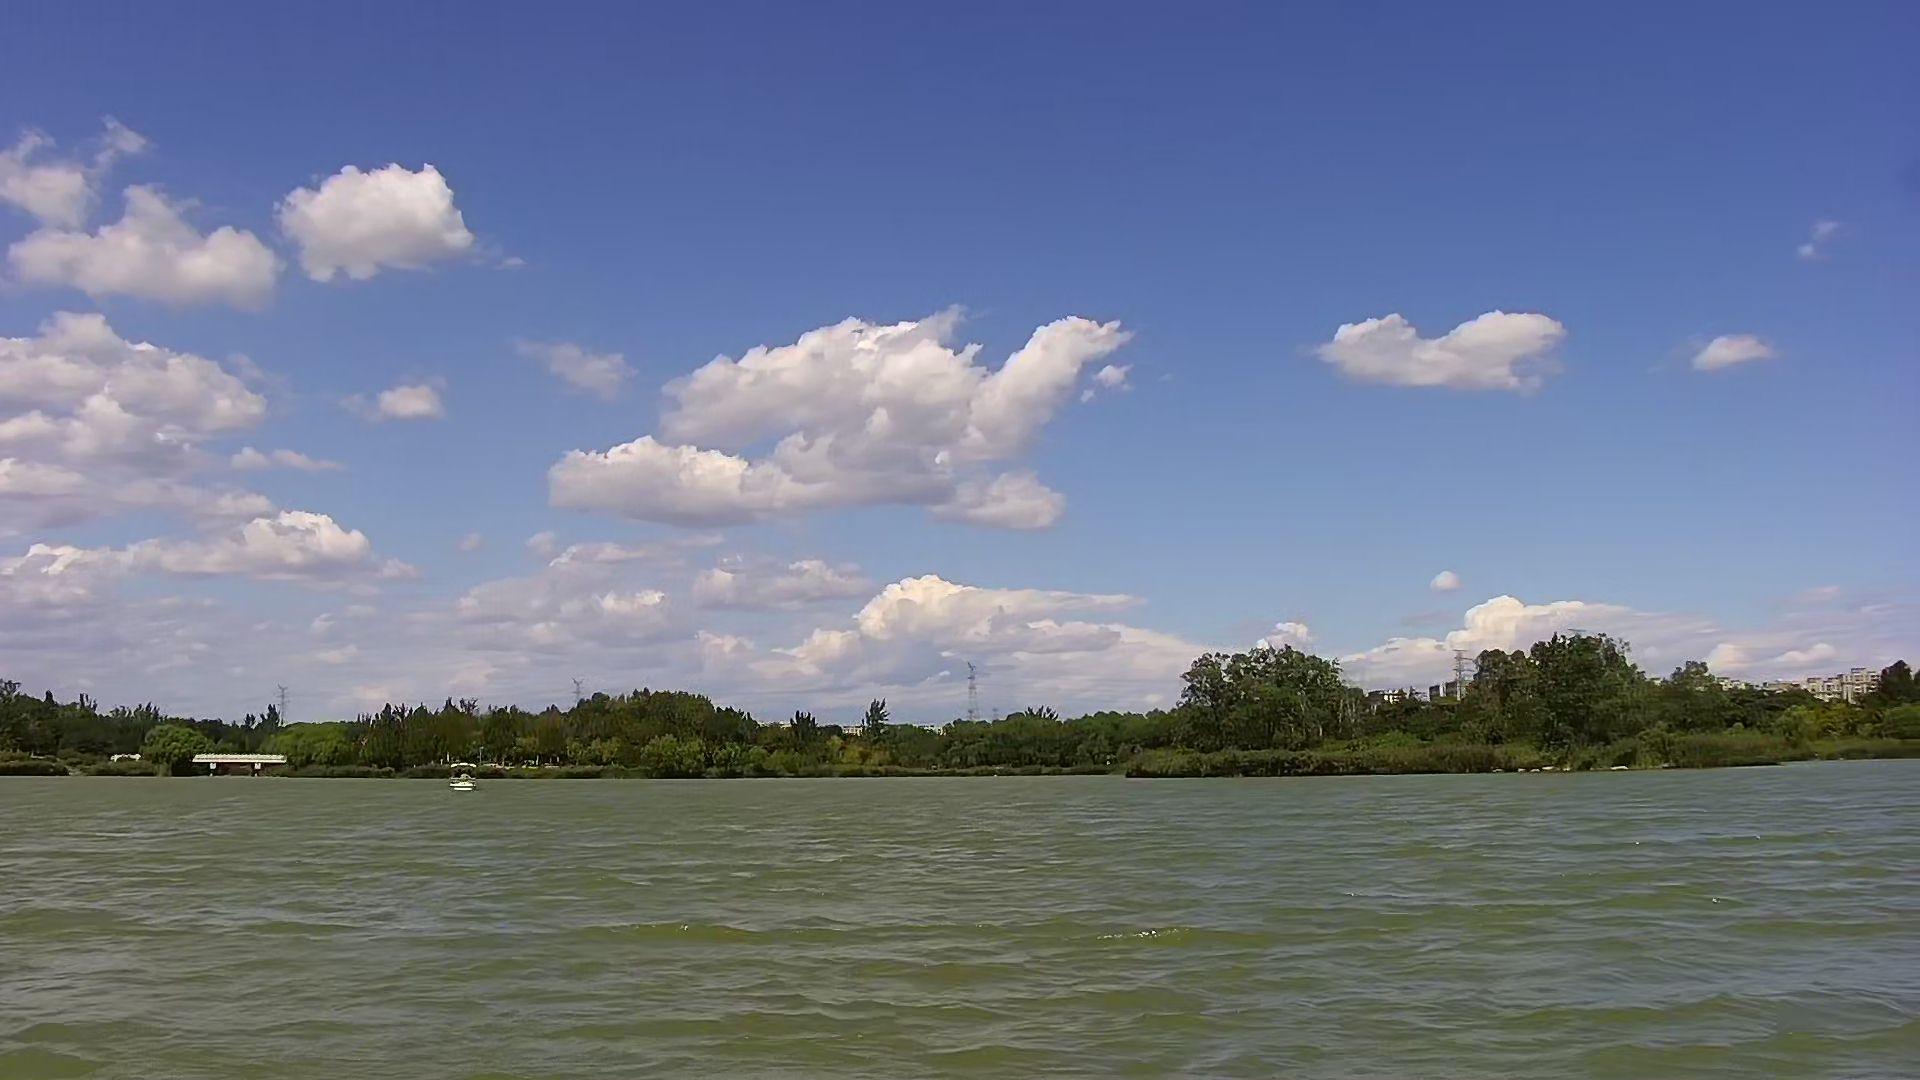boat: (447, 756, 481, 800)
bridge: (185, 738, 295, 781)
